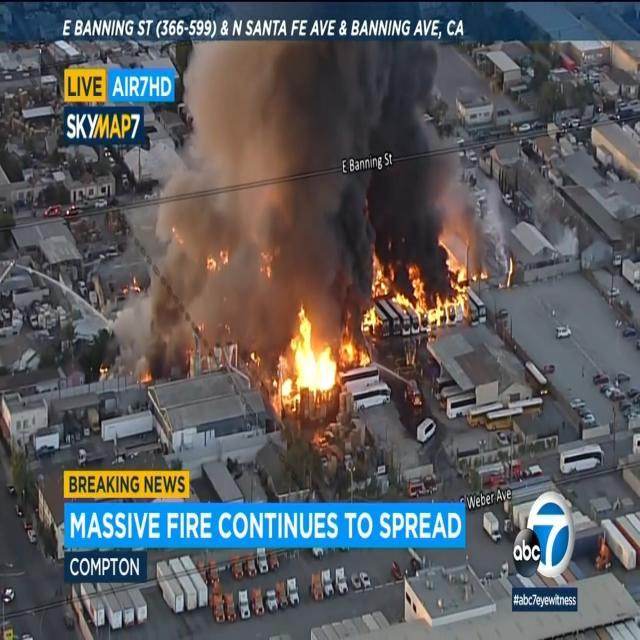Fire: (340, 226, 478, 346), (266, 299, 344, 399)
Smoke: (190, 52, 337, 369), (141, 181, 245, 366), (334, 178, 454, 308), (326, 50, 446, 138)
